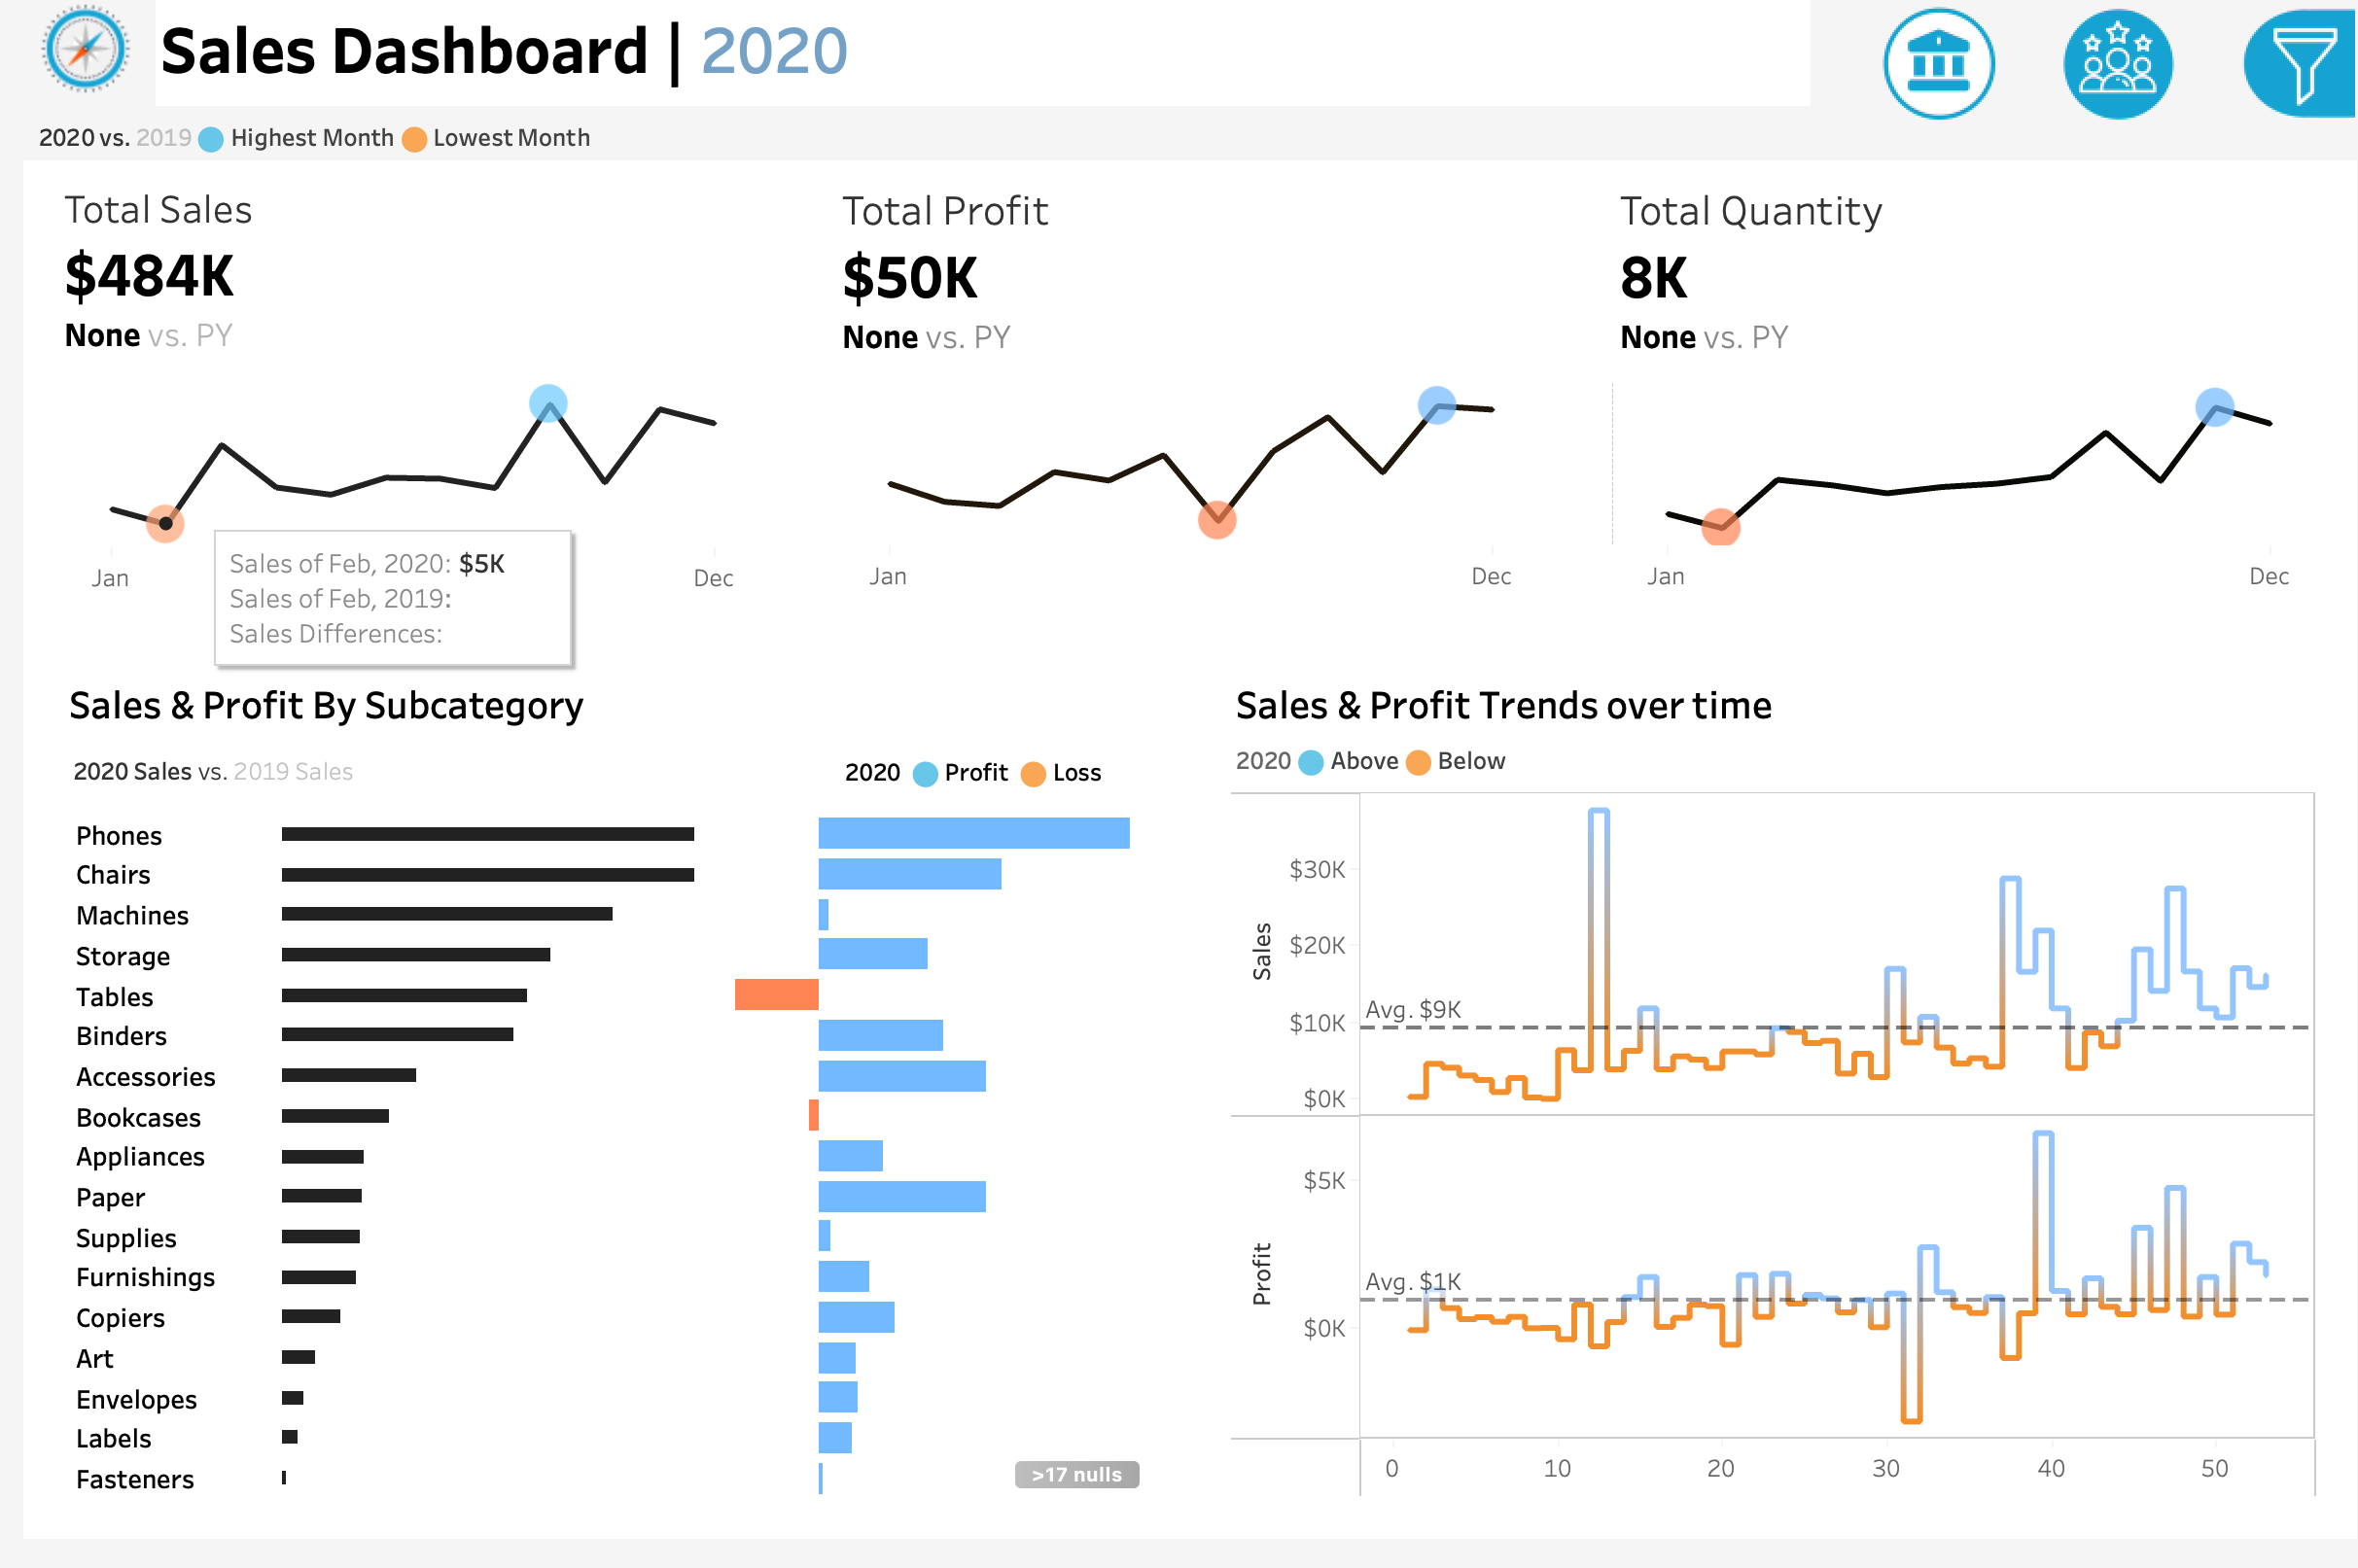

The dashboard page shown, as its layout file describes it:
{"tool":"tableau","page":{"name":"Sales Dashboard","canvas":[1200,800],"ordinal":1},"visuals":[{"type":"image","param":"Image/Icon - Logo.png","box":[0,0,64,67]},{"type":"text","box":[64,0,859,67]},{"type":"dashboard-object","box":[939,8,93,67]},{"type":"dashboard-object","box":[1032,8,92,67]},{"type":"blank","box":[959,16,227,70]},{"type":"worksheet","title":"Legend KPI","mark":"Automatic","box":[0,67,1200,24]},{"type":"text","box":[959,86,227,35]},{"type":"worksheet","title":"KPI Sales","mark":"Line","rows":["Calculation_4620200675018203136"],"cols":["Order Date"],"box":[0,91,400,245]},{"type":"worksheet","title":"KPI Profit","mark":"Line","rows":["Calculation_4620200675045601291"],"cols":["Order Date"],"box":[400,91,400,245]},{"type":"worksheet","title":"KPI Quantity","mark":"Line","rows":["Calculation_4620200675046019084"],"cols":["Order Date"],"box":[800,91,400,245]},{"type":"parameter","param":"[Parameters].[Parameter 1]","box":[959,121,227,52]},{"type":"blank","box":[959,173,227,43]},{"type":"text","box":[959,216,227,29]},{"type":"filter","title":"KPI Sales","param":"[federated.10dutt60pf16h01c1zht81idta72].[none:Category:nk]","box":[959,245,227,52]},{"type":"filter","title":"KPI Sales","param":"[federated.10dutt60pf16h01c1zht81idta72].[none:Sub-Category:nk]","box":[959,297,227,52]},{"type":"text","box":[959,349,227,29]},{"type":"text","box":[17,353,566,34]},{"type":"text","box":[617,353,566,34]},{"type":"filter","title":"KPI Sales","param":"[federated.10dutt60pf16h01c1zht81idta72].[none:City:nk]","box":[959,378,227,52]},{"type":"worksheet","title":"Legend Subcategory","mark":"Automatic","box":[17,387,399,36]},{"type":"text","box":[416,387,167,36]},{"type":"text","box":[617,387,566,25]},{"type":"worksheet","title":"Weekly Trends","mark":"Automatic","rows":["Calculation_4578753484683431936","Calculation_4620200675040530437"],"cols":["Order Date"],"box":[617,412,566,371]},{"type":"worksheet","title":"Subcategory Comparison","mark":"Bar","rows":["Sub-Category","Calculation_4683391807351578624"],"cols":["CY Sales (copy)_4578753484683874305","Calculation_4578753484683431936","Calculation_4620200675040530437"],"box":[17,423,566,360]},{"type":"filter","title":"KPI Sales","param":"[federated.10dutt60pf16h01c1zht81idta72].[none:Region:nk]","box":[959,430,227,52]},{"type":"filter","title":"KPI Sales","param":"[federated.10dutt60pf16h01c1zht81idta72].[none:State:nk]","box":[959,482,227,52]}]}

Visuals, with their boxes in screenshot pixels (x1, y1, x2, y2), scaled from the page's 1200x800 canvas onto the 2358x1568 screenshot:
image: [0, 0, 125, 131]
text: [125, 0, 1813, 131]
dashboard-object: [1846, 16, 2028, 147]
dashboard-object: [2028, 16, 2208, 147]
blank: [1884, 31, 2331, 168]
"Legend KPI" worksheet: [0, 131, 2357, 178]
text: [1884, 168, 2331, 237]
"KPI Sales" worksheet (Line marks): [0, 178, 786, 658]
"KPI Profit" worksheet (Line marks): [786, 178, 1572, 658]
"KPI Quantity" worksheet (Line marks): [1572, 178, 2357, 658]
parameter: [1884, 237, 2331, 339]
blank: [1884, 339, 2331, 424]
text: [1884, 424, 2331, 480]
"KPI Sales" filter: [1884, 480, 2331, 582]
"KPI Sales" filter: [1884, 582, 2331, 684]
text: [1884, 684, 2331, 741]
text: [33, 692, 1145, 758]
text: [1213, 692, 2325, 758]
"KPI Sales" filter: [1884, 741, 2331, 843]
"Legend Subcategory" worksheet: [33, 758, 818, 829]
text: [818, 758, 1145, 829]
text: [1213, 758, 2325, 808]
"Weekly Trends" worksheet: [1213, 808, 2325, 1535]
"Subcategory Comparison" worksheet (Bar marks): [33, 829, 1145, 1535]
"KPI Sales" filter: [1884, 843, 2331, 945]
"KPI Sales" filter: [1884, 945, 2331, 1047]
